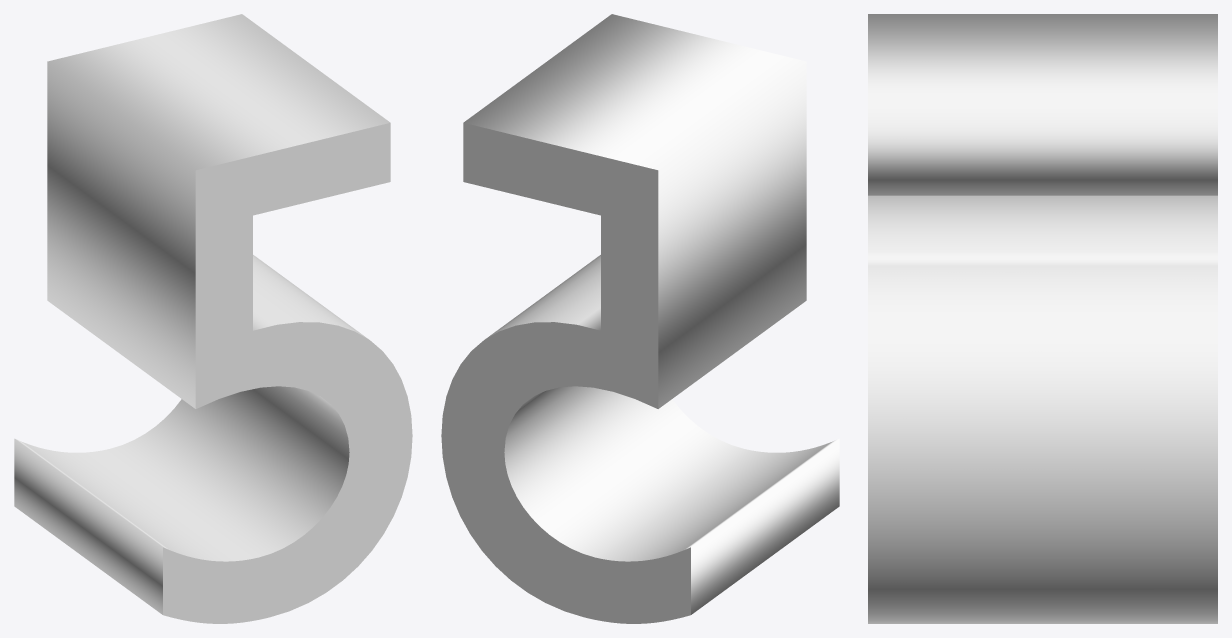
3 views of the same model, side by side, from view 1: azimuth 30°, elevation 25°; view 2: azimuth 150°, elevation 25°; view 3: azimuth 270°, elevation 25° (orthographic). The views are drawn at different scales.
Parts seen in each view (by area): view 1: テキスト; view 2: テキスト; view 3: テキスト.
Boxes of the visible parts, bbox=[...] form: テキスト: bbox=[14, 14, 412, 623]; テキスト: bbox=[441, 14, 839, 623]; テキスト: bbox=[868, 14, 1217, 623].
Size of the model in its own units: 0.0987 by 0.1758 by 0.1017.
Materials: 1 (1 with a texture image).
